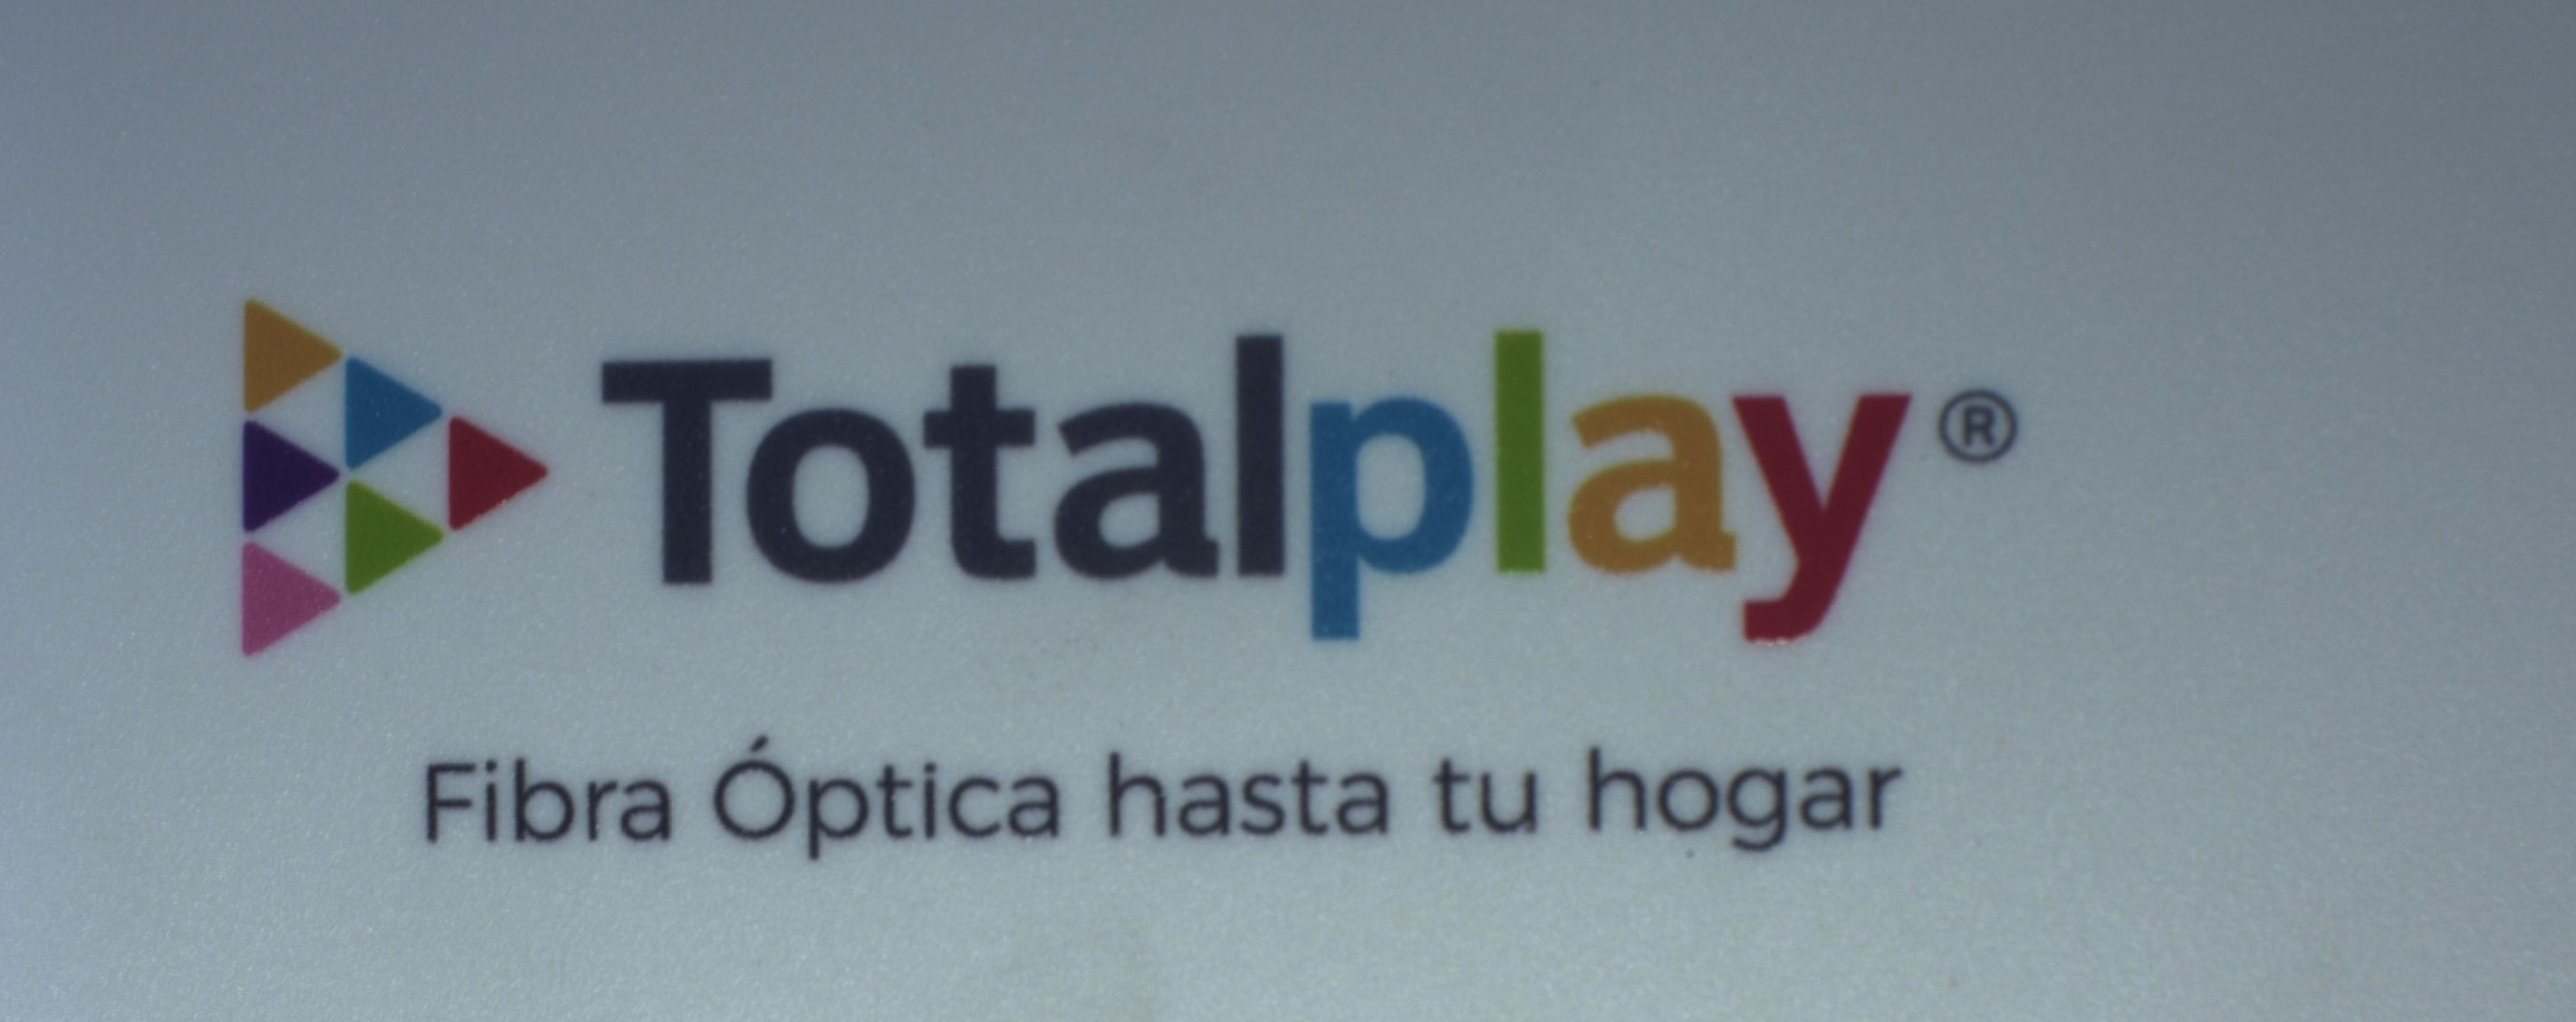BP_TotalPlay: (210, 292, 2058, 882)
